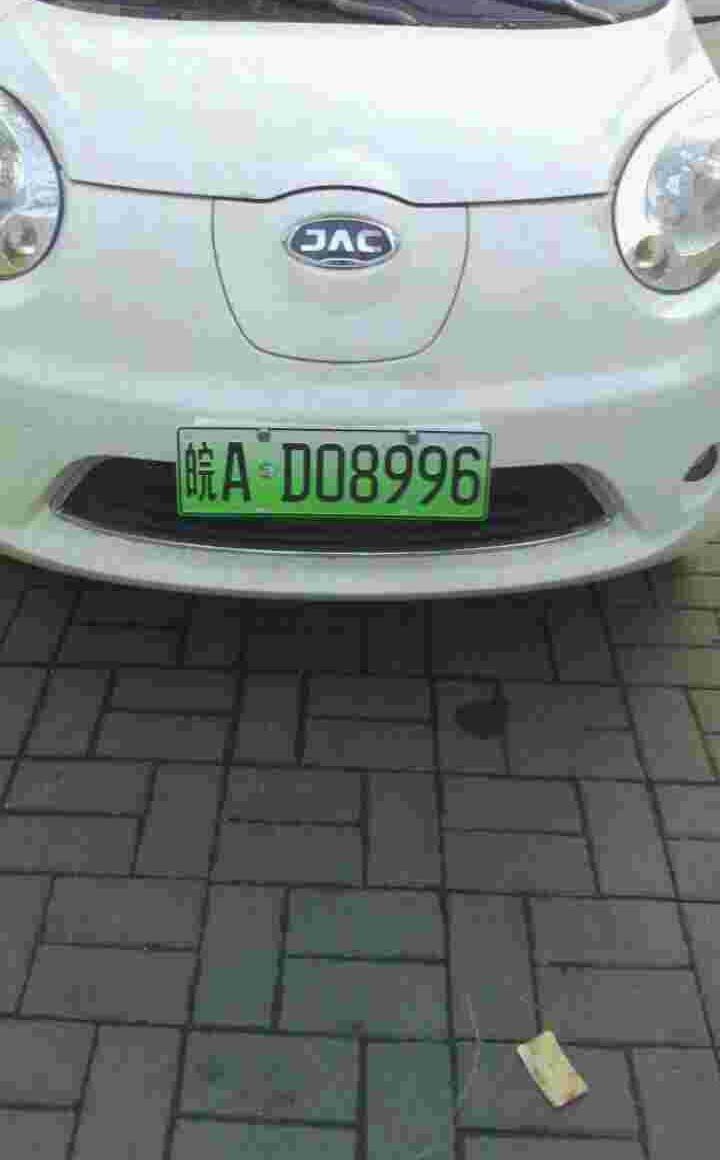car: (174, 422, 498, 526)
